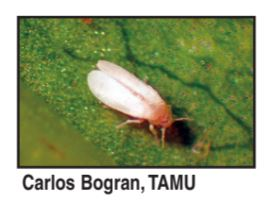Tobacco Whitefly: (79, 57, 184, 143)
